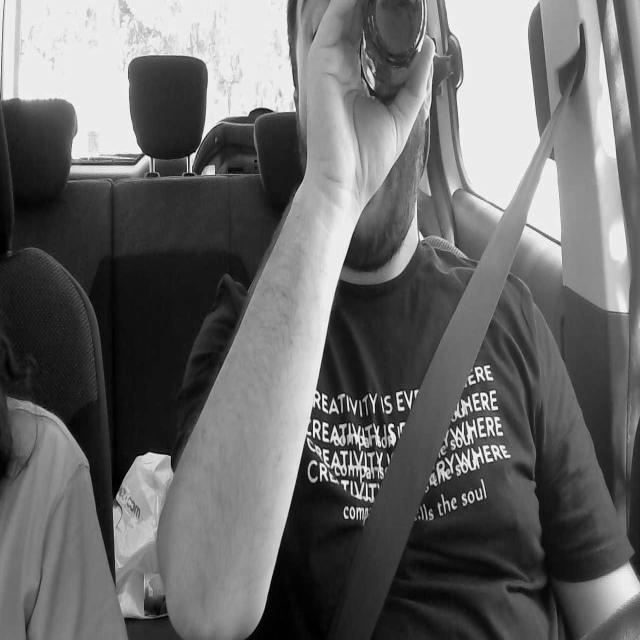Drinking: (243, 0, 442, 207)
Seatbelt: (370, 182, 533, 562)
